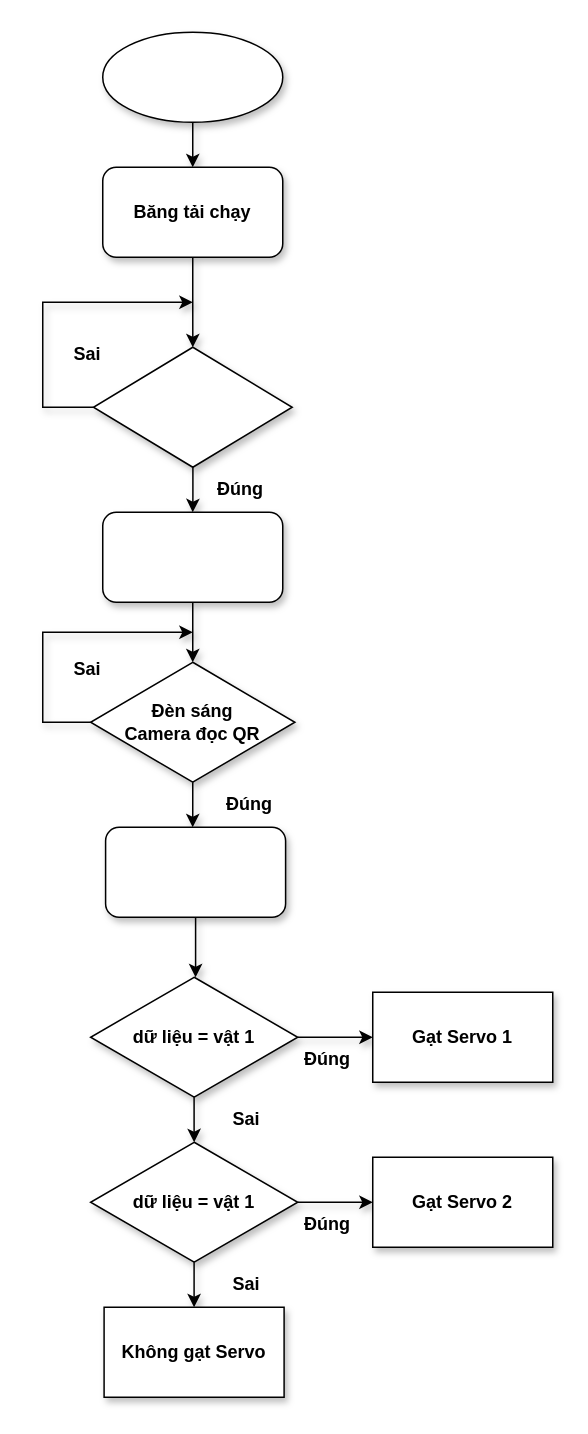
Some shapes in this 588 by 1434 pixel diagram are drawn without their labels. The shapes that lost their labels are listed below. From the top down, each one's centre as x and y in pixels, then its label:
At (193,79): "Bắt đầu".
At (193,409): "Cảm biến phát hiện vật".
At (193,559): "Băng tải dừng".
At (196,874): "Đèn tắt, băng tải chạy".
